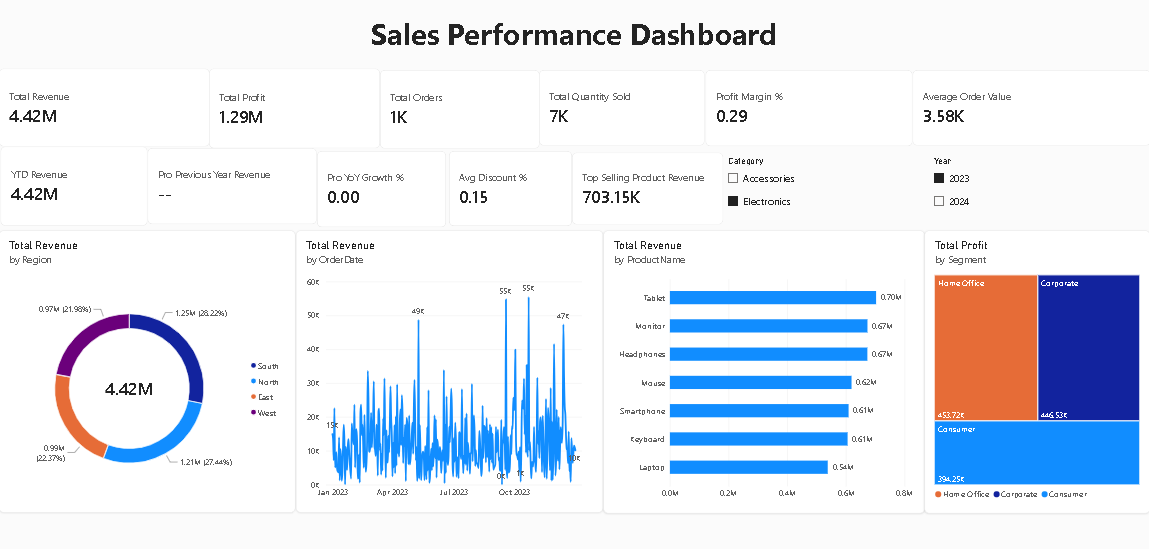

This screenshot's page, from the dashboard's own definition file:
{"tool":"powerbi","page":{"name":"Page 1","canvas":[1920,1080],"ordinal":0},"visuals":[{"type":"cardVisual","fields":{"Data":["sales_data.Total Revenue"]},"box":[0,117.5,351.2,130],"z":0},{"type":"donutChart","fields":{"Category":["sales_data.Region"],"Y":["sales_data.Total Revenue"]},"box":[0,388,494,470],"z":1000},{"type":"cardVisual","fields":{"Data":["sales_data.Total Profit"]},"box":[350,117.5,285,133.8],"z":2000},{"type":"cardVisual","fields":{"Data":["sales_data.Total Orders"]},"box":[635,120,266.2,131.2],"z":3000},{"type":"cardVisual","fields":{"Data":["sales_data.Total Quantity Sold"]},"box":[900,121.1,276.7,126.7],"z":4000},{"type":"cardVisual","fields":{"Data":["sales_data.Profit Margin %"]},"box":[1177.8,120,345.6,127.8],"z":5000},{"type":"cardVisual","fields":{"Data":["sales_data.Average Order Value"]},"box":[1523.3,121.1,397.8,126.7],"z":6000},{"type":"cardVisual","fields":{"Data":["sales_data.YTD Revenue"]},"box":[2.5,247.5,245,132.5],"z":7000},{"type":"cardVisual","fields":{"Data":["sales_data.Pro Previous Year Revenue"]},"box":[247.5,250,282.5,127.5],"z":8000},{"type":"cardVisual","fields":{"Data":["sales_data.Pro YoY Growth %"]},"box":[530,255,215,127.5],"z":9000},{"type":"cardVisual","fields":{"Data":["sales_data.Top Selling Product Revenue"]},"box":[955,257.5,252.5,120],"z":10000},{"type":"cardVisual","fields":{"Data":["sales_data.Avg Discount %"]},"box":[750,255,205,125],"z":11000},{"type":"lineChart","fields":{"Category":["sales_data.OrderDate.Variation.Date Hierarchy.Year"],"Y":["sales_data.Total Revenue"]},"box":[494,388,512,470],"z":12000},{"type":"clusteredBarChart","fields":{"Category":["sales_data.ProductName"],"Y":["sales_data.Total Revenue"]},"box":[1007.5,387.5,535,471.2],"z":13000},{"type":"treemap","fields":{"Group":["sales_data.Segment"],"Values":["sales_data.Total Profit"]},"box":[1542.5,387.4,375.9,471.3],"z":14000},{"type":"textbox","box":[0,26.5,1917.6,88.2],"z":15000},{"type":"slicer","fields":{"Values":["sales_data.Category"]},"box":[1207.8,262.2,334.4,115.6],"z":16000},{"type":"slicer","fields":{"Values":["Calendar.Year"]},"box":[1548.9,262.2,362.2,115.6],"z":17000}]}

Visuals, with their boxes in screenshot pixels (x1, y1, x2, y2):
cardVisual - sales_data.Total Revenue: region(105, 30, 293, 100)
donutChart - sales_data.Region x sales_data.Total Revenue: region(105, 176, 370, 428)
cardVisual - sales_data.Total Profit: region(293, 30, 446, 102)
cardVisual - sales_data.Total Orders: region(446, 32, 589, 102)
cardVisual - sales_data.Total Quantity Sold: region(588, 32, 737, 100)
cardVisual - sales_data.Profit Margin %: region(738, 32, 923, 100)
cardVisual - sales_data.Average Order Value: region(923, 32, 1137, 100)
cardVisual - sales_data.YTD Revenue: region(106, 100, 238, 171)
cardVisual - sales_data.Pro Previous Year Revenue: region(238, 101, 390, 170)
cardVisual - sales_data.Pro YoY Growth %: region(390, 104, 505, 173)
cardVisual - sales_data.Top Selling Product Revenue: region(618, 105, 754, 170)
cardVisual - sales_data.Avg Discount %: region(508, 104, 618, 171)
lineChart - sales_data.OrderDate.Variation.Date Hierarchy.Year x sales_data.Total Revenue: region(370, 176, 645, 428)
clusteredBarChart - sales_data.ProductName x sales_data.Total Revenue: region(646, 175, 934, 429)
treemap - sales_data.Segment x sales_data.Total Profit: region(934, 175, 1136, 429)
textbox: region(105, 0, 1135, 29)
slicer - sales_data.Category: region(754, 108, 934, 170)
slicer - Calendar.Year: region(937, 108, 1132, 170)
